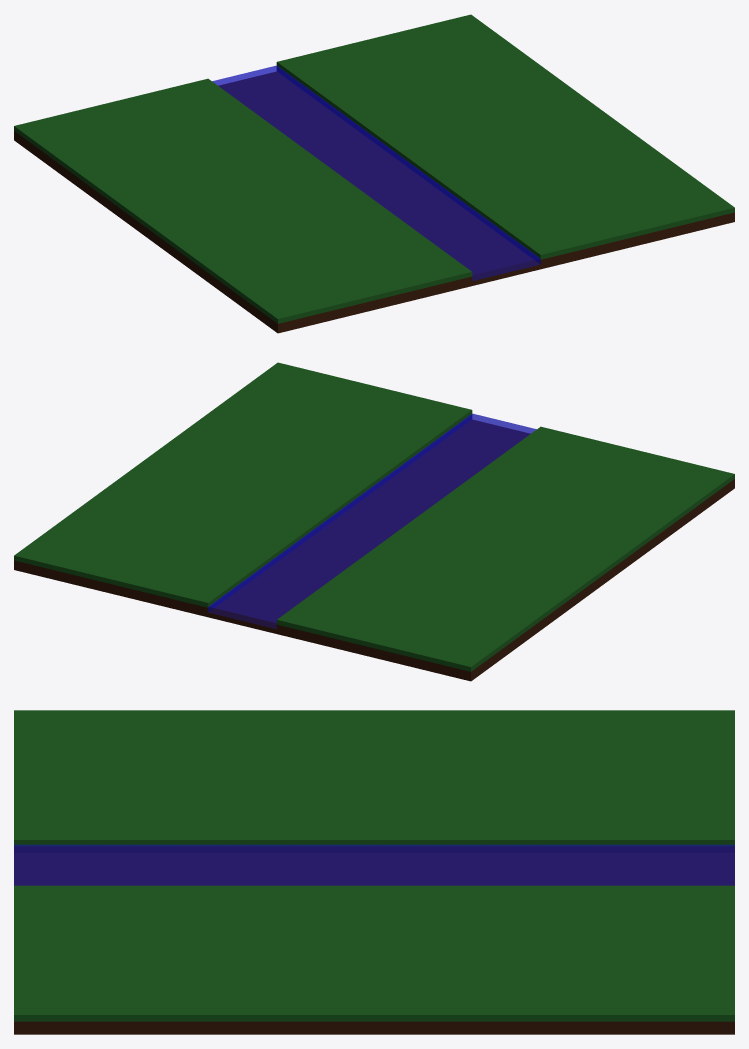
File: Straight River 1.FBX
3 renders of one model, top to bottom at view 1: azimuth 30°, elevation 25°; view 2: azimuth 150°, elevation 25°; view 3: azimuth 270°, elevation 25°, orthographic. The views are drawn at different scales.
Visible parts, largest first — view 1: LeftGrass, RightGrass, Ground, Water; view 2: LeftGrass, RightGrass, Ground, Water; view 3: RightGrass, LeftGrass, Ground, Water.
Boxes of the visible parts, x1,y1,x2,y2 form: LeftGrass: (14, 78, 472, 323); RightGrass: (276, 14, 734, 259); Ground: (14, 67, 734, 333); Water: (212, 65, 540, 280); LeftGrass: (276, 426, 734, 671); RightGrass: (14, 362, 472, 607); Ground: (14, 415, 734, 681); Water: (208, 413, 536, 628); RightGrass: (14, 885, 734, 1021); LeftGrass: (14, 710, 734, 846); Ground: (14, 846, 734, 1034); Water: (14, 844, 734, 885).
Bounding box in the file's own units: 200 × 200 × 6.
